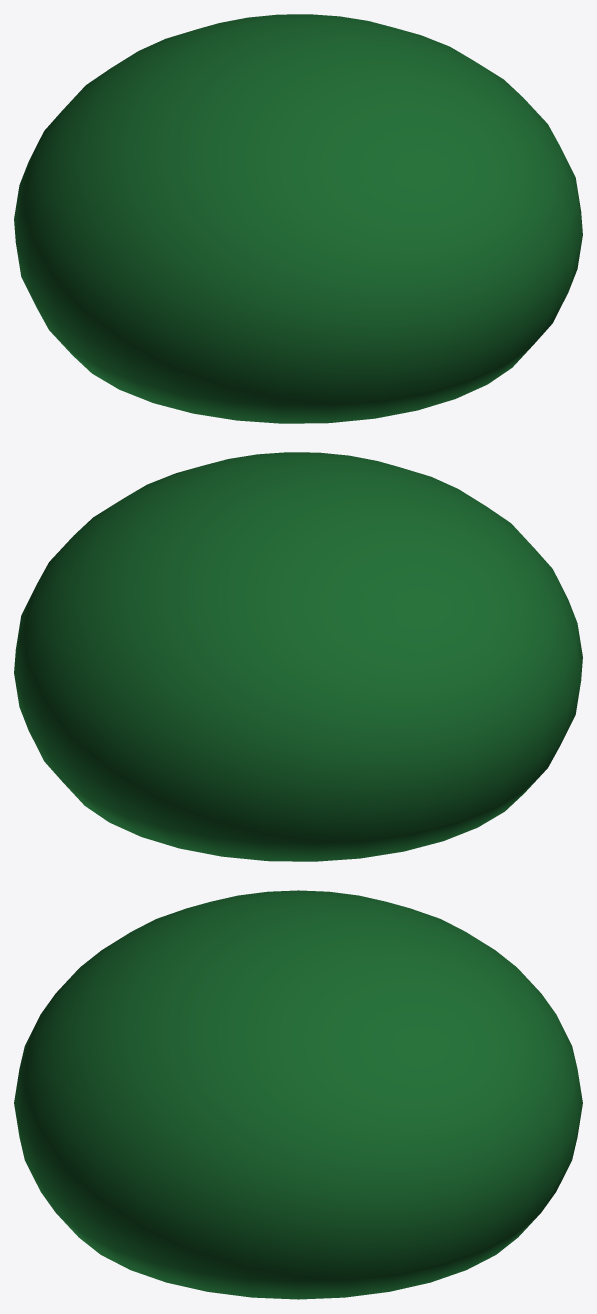
Rendered from lampUpgraded.fbx.
3 renders of one model, top to bottom at view 1: azimuth 30°, elevation 25°; view 2: azimuth 150°, elevation 25°; view 3: azimuth 270°, elevation 25°, orthographic.
Parts seen in each view (by area): view 1: Sphere; view 2: Sphere; view 3: Sphere.
Boxes of the visible parts, x1,y1,x2,y2 form: Sphere: [14, 14, 582, 423]; Sphere: [14, 452, 582, 861]; Sphere: [14, 890, 582, 1299].
Bounding box in the file's own units: 400 × 252 × 400.
